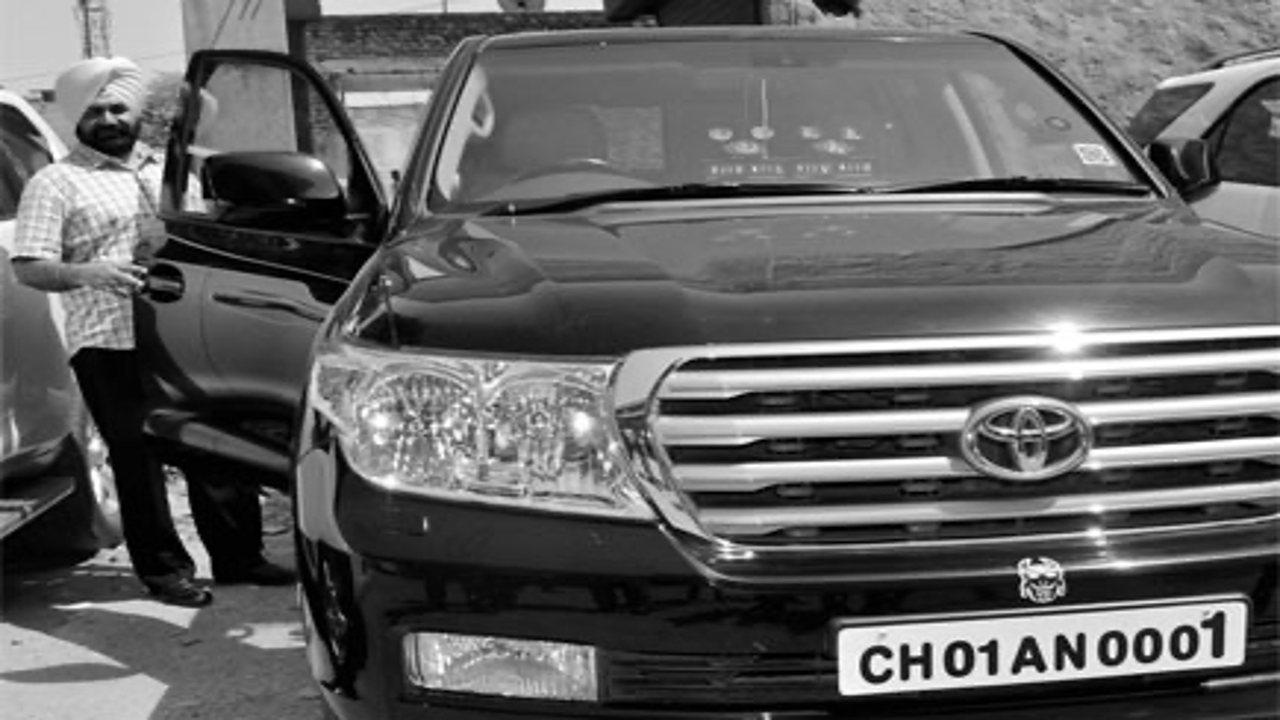license: (826, 595, 1257, 702)
